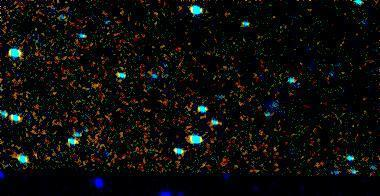star: (80, 70, 110, 100)
